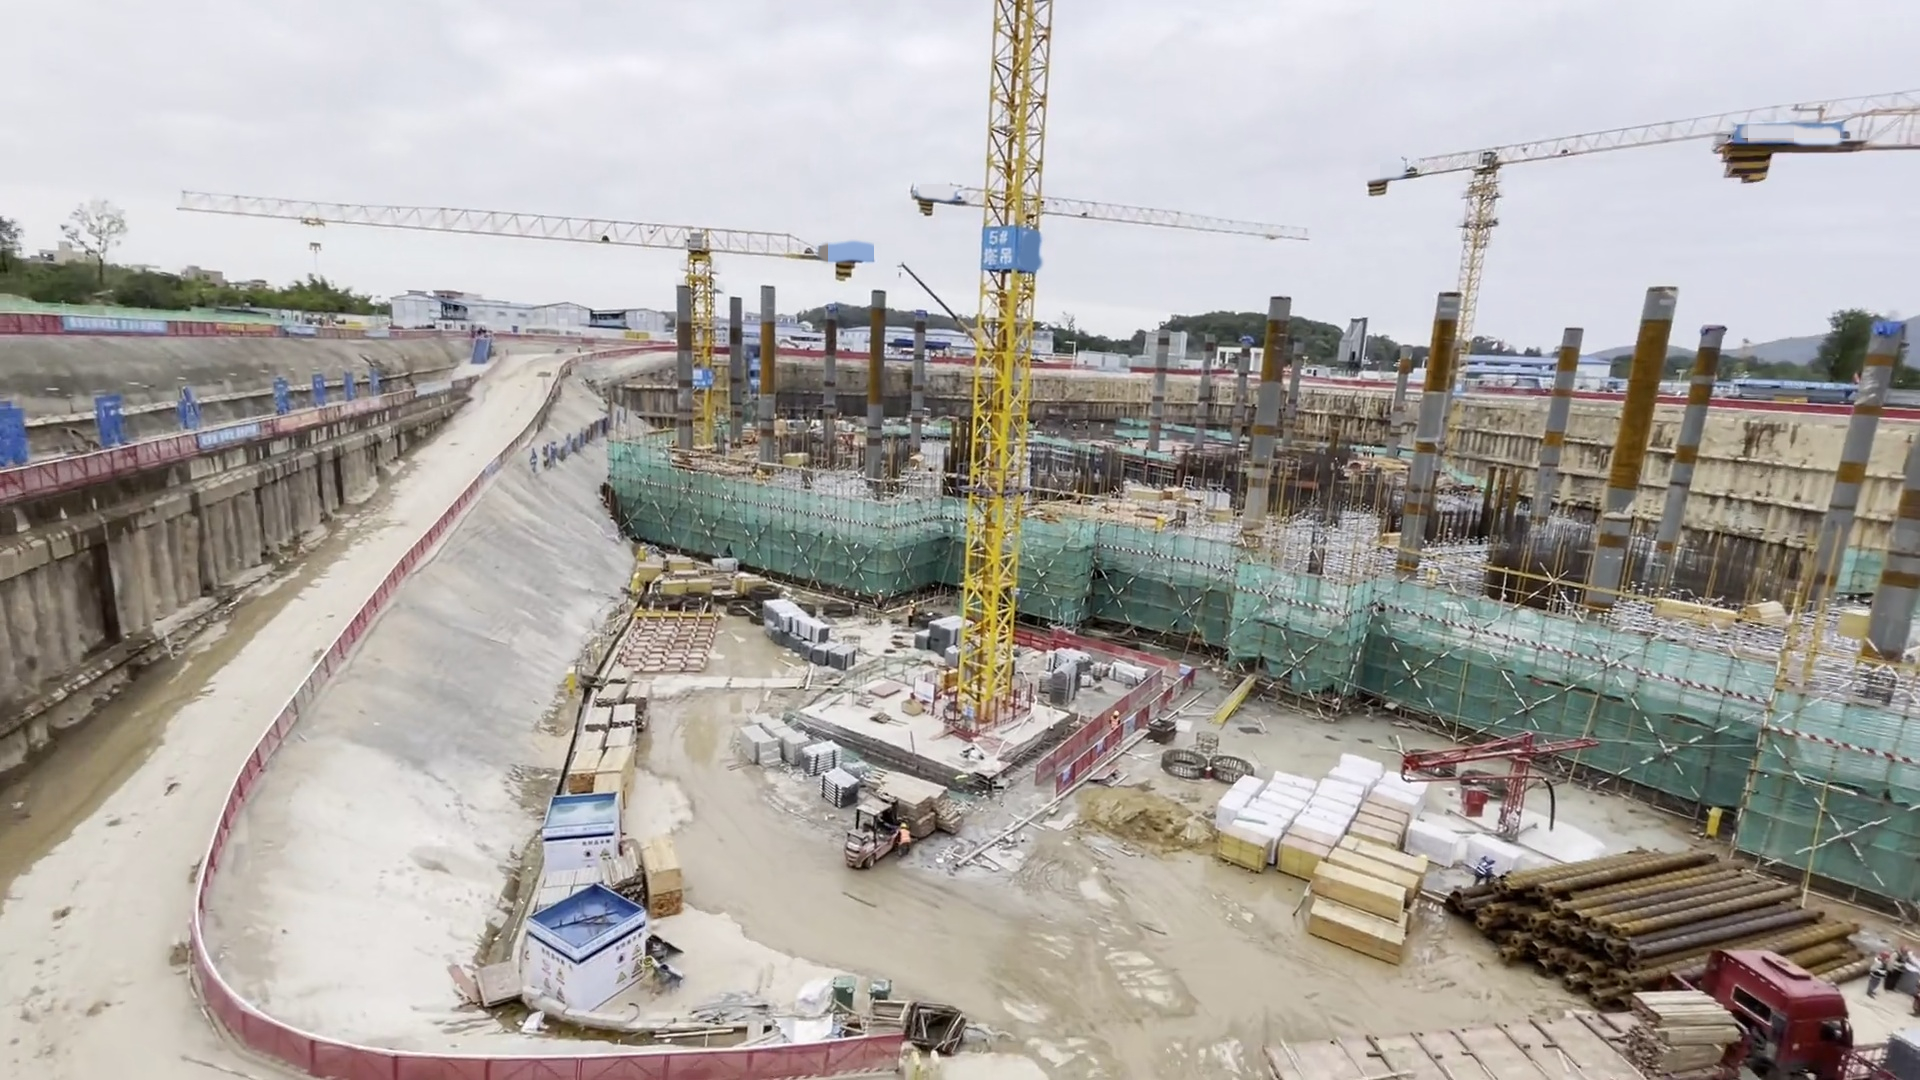helmet: (1880, 950, 1891, 960), (898, 821, 909, 830), (1900, 945, 1911, 954), (1111, 710, 1121, 716), (909, 598, 915, 606), (878, 589, 883, 596)
person: (1890, 944, 1912, 998), (1870, 946, 1890, 1005), (1471, 852, 1499, 887), (896, 820, 912, 859), (1108, 708, 1124, 742), (871, 587, 884, 613), (906, 599, 915, 626)
vest: (1475, 863, 1490, 879), (899, 830, 910, 844), (1111, 718, 1120, 729)
